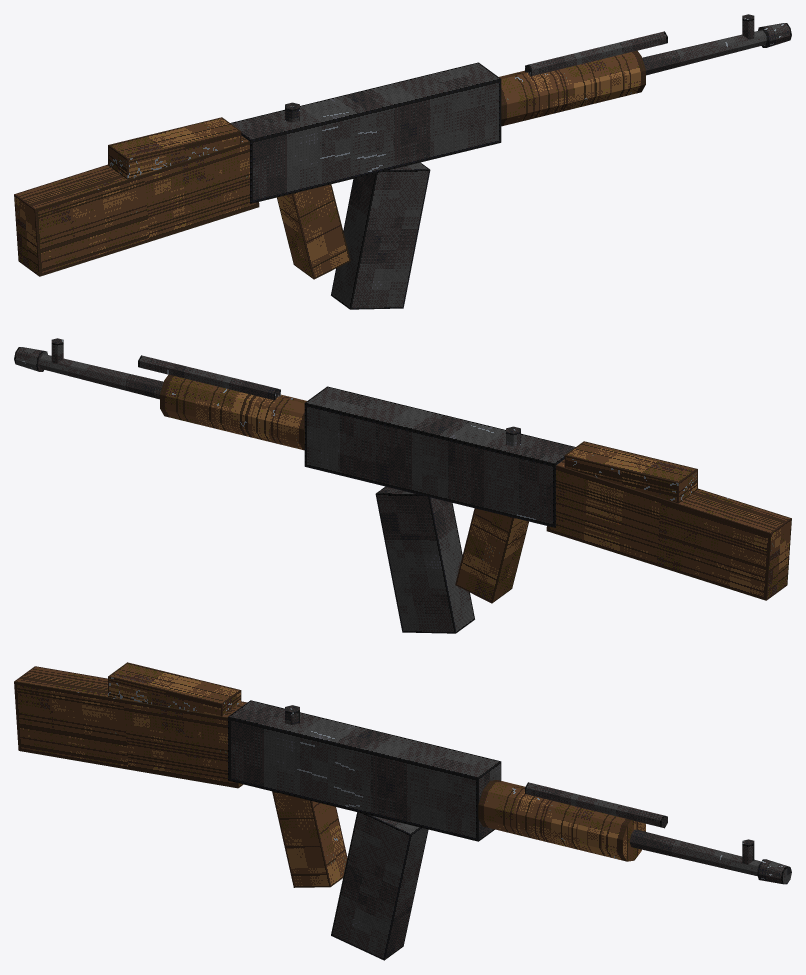
Rendered from SM_Rifle_02.glb.
3 views of the same model, one above another, from view 1: azimuth 30°, elevation 25°; view 2: azimuth 150°, elevation 25°; view 3: azimuth 330°, elevation 25° (orthographic).
Parts seen in each view (by area): view 1: SM_Rifle_02; view 2: SM_Rifle_02; view 3: SM_Rifle_02.
Boxes of the visible parts, <box> form: SM_Rifle_02: <box>14,14,791,309</box>; SM_Rifle_02: <box>14,338,791,633</box>; SM_Rifle_02: <box>14,662,791,960</box>.
Size of the model in its own units: 1 by 0.2766 by 0.0533.
Materials: 1 (1 with a texture image).
